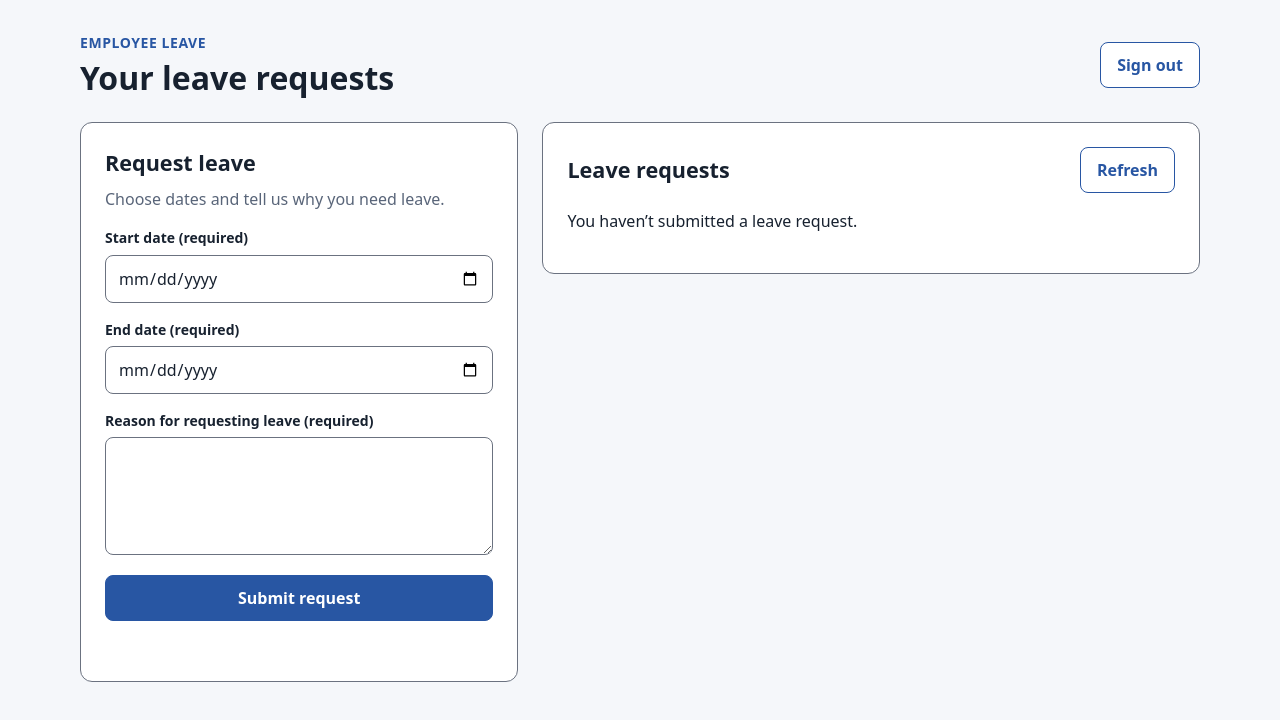
Test: EmployeeDashboard submission feedback › shows success feedback after a request is saved
Expected: the heading "Your leave requests" is shown, [80, 59, 394, 98]
Type "2099-01-01" into the date field labelled "Start date (required)" at (299, 279), box [105, 255, 493, 303]
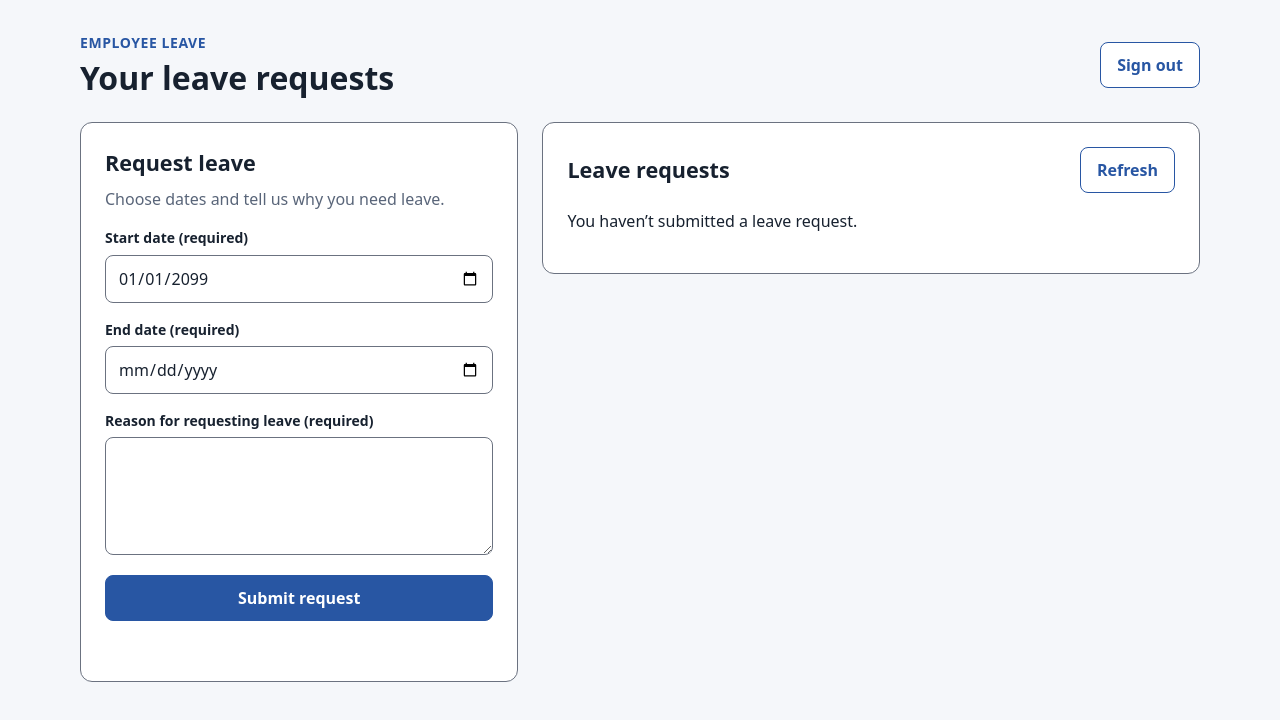
Type "2099-01-01" into the date field labelled "End date (required)" at (299, 370), box [105, 346, 493, 394]
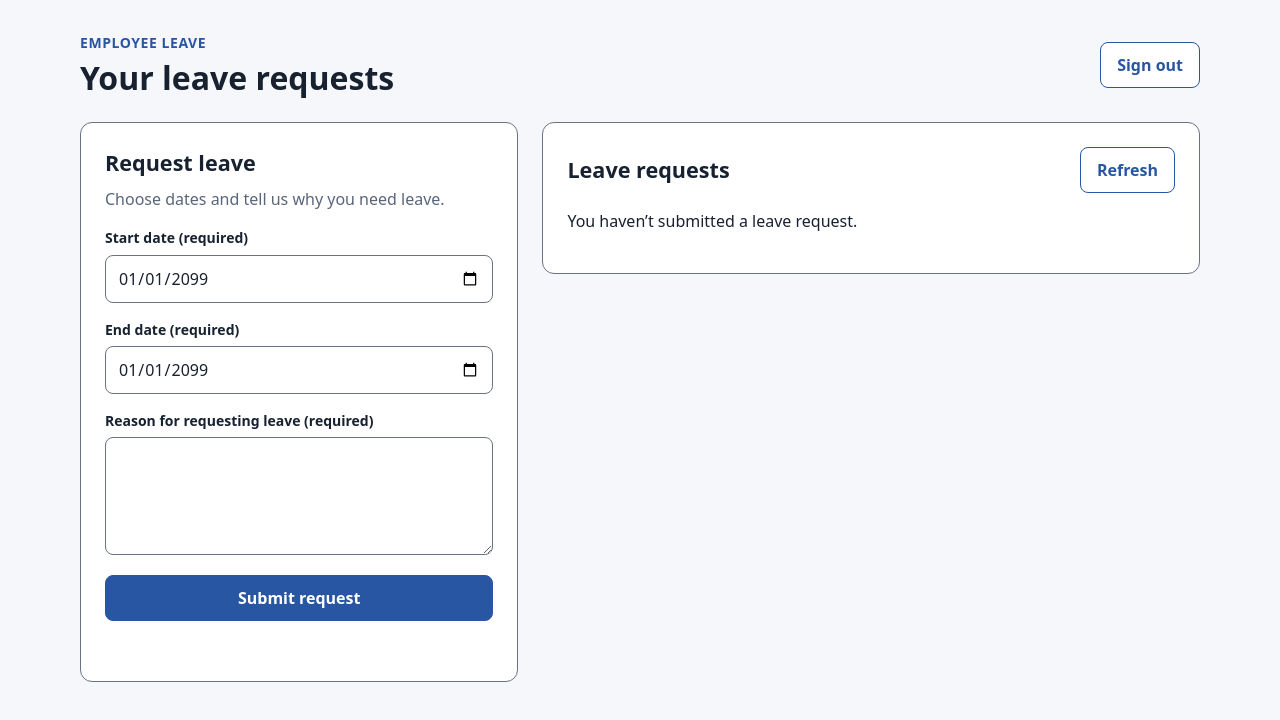
Type "Annual leave" into the text box labelled "Reason for requesting leave (required)" at (299, 496), box [105, 437, 493, 555]
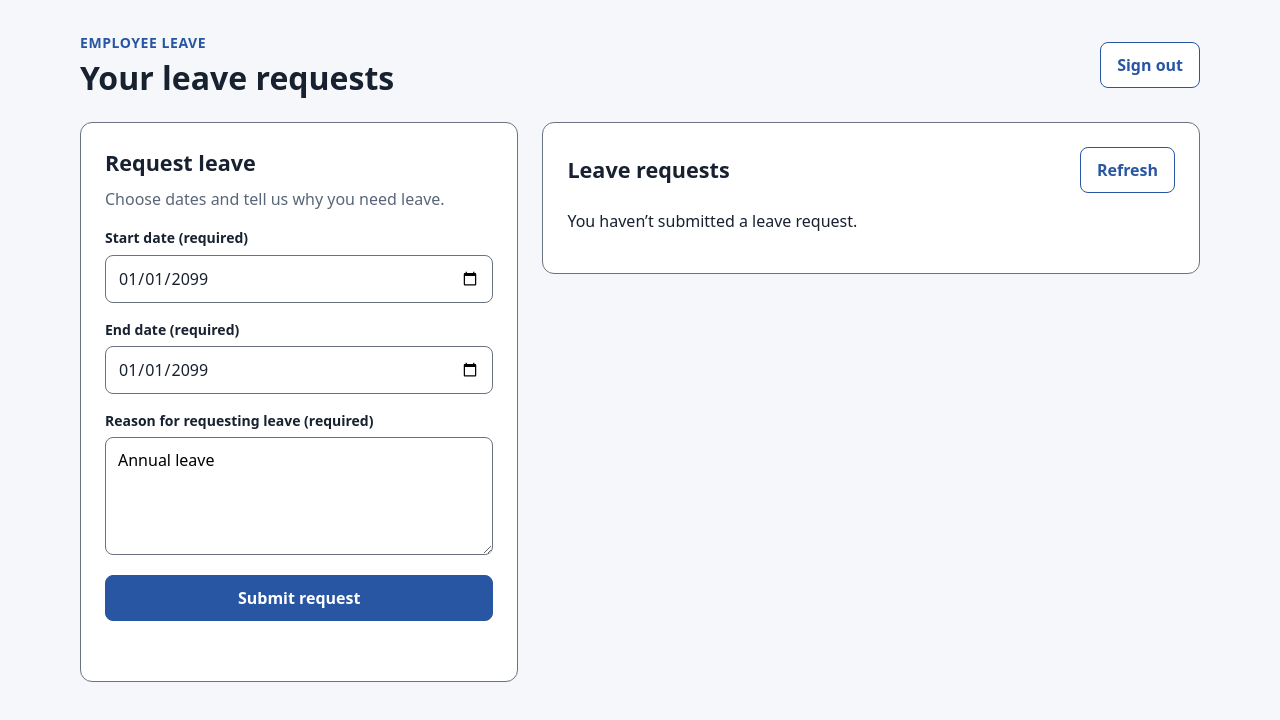
Click the button "Submit request" at (299, 598), box [105, 575, 493, 621]
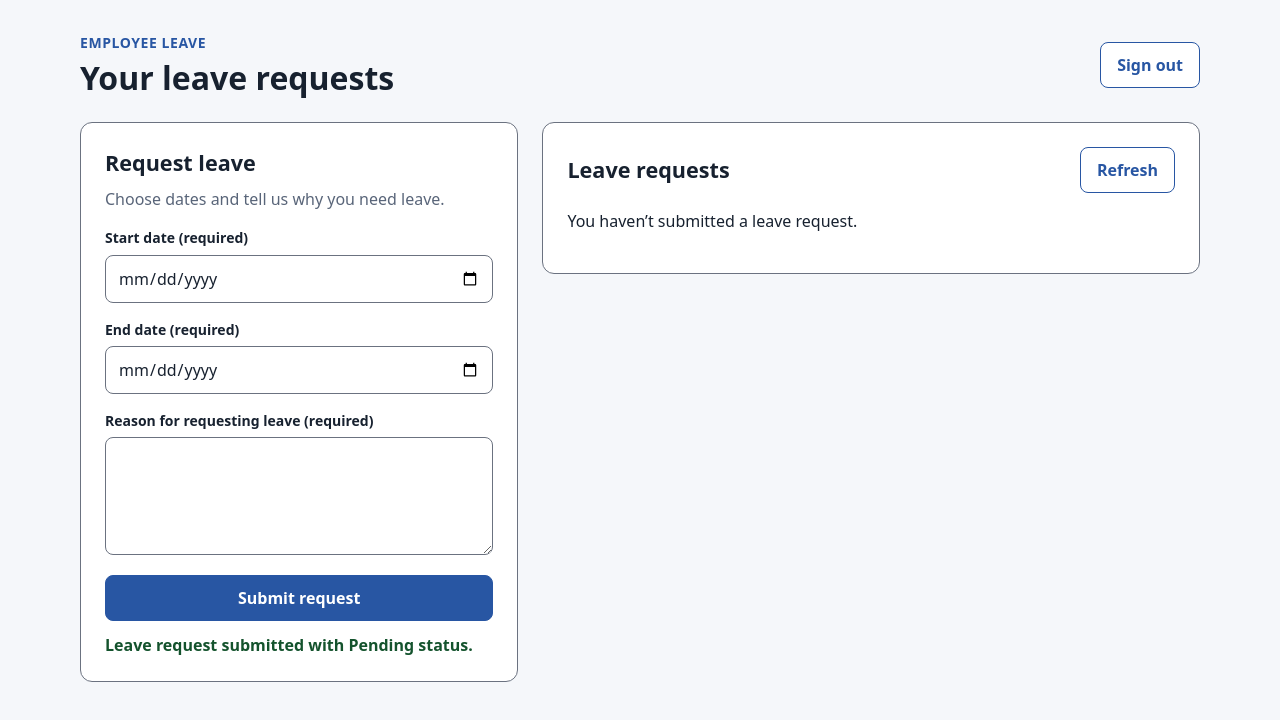
Result: the text "Leave request submitted with Pending status." is shown at [105, 633, 493, 657]
Result: the text box labelled "Reason for requesting leave (required)" is empty at [105, 437, 493, 555]
